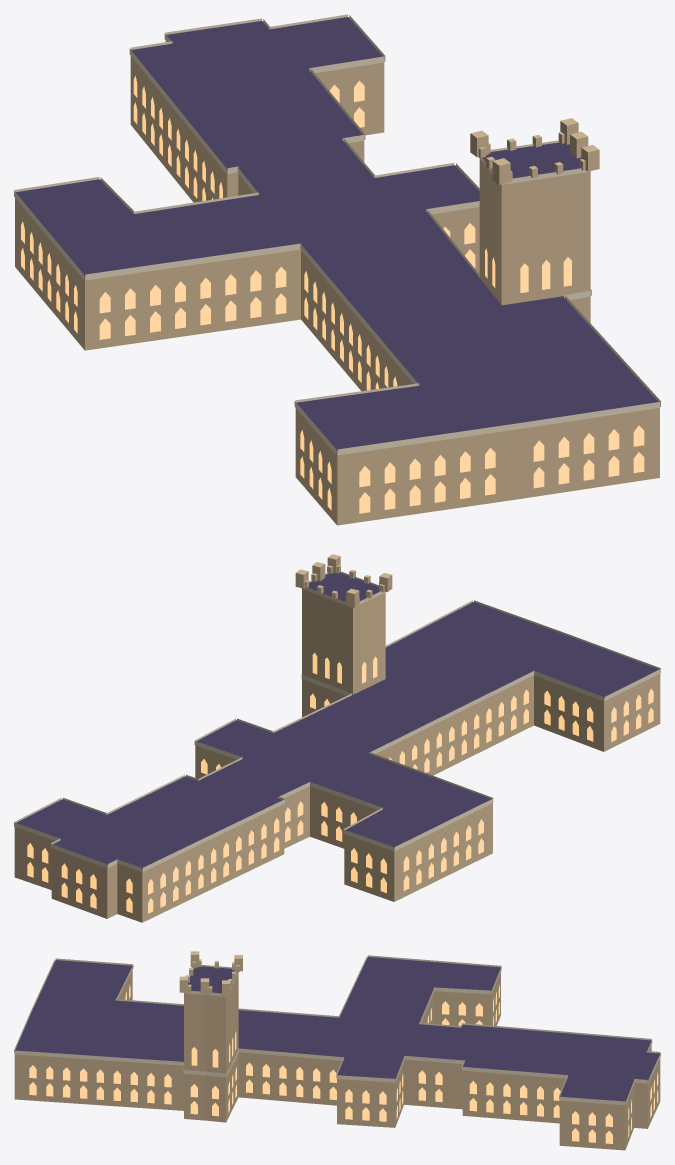
File: university-college.glb
The picture shows the model from 3 angles, top to bottom: view 1: azimuth 30°, elevation 25°; view 2: azimuth 150°, elevation 25°; view 3: azimuth 270°, elevation 25°; orthographic projection. The views are drawn at different scales.
Visible parts, largest first — view 1: university-college-0; view 2: university-college-0; view 3: university-college-0.
Part boxes in pixels (box(x1,y1,x2,y2)): university-college-0: box(14, 14, 660, 525); university-college-0: box(14, 554, 660, 922); university-college-0: box(14, 951, 660, 1150).
Size of the model in its own units: 60.72 by 27.2 by 114.
